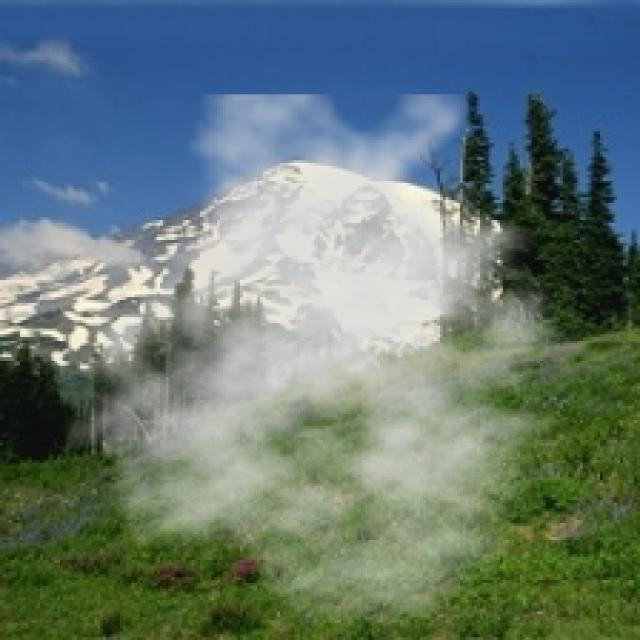Smoke: (62, 94, 618, 629)
